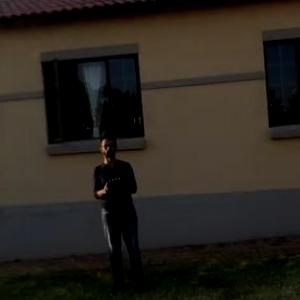follow: (88, 127, 149, 299)
